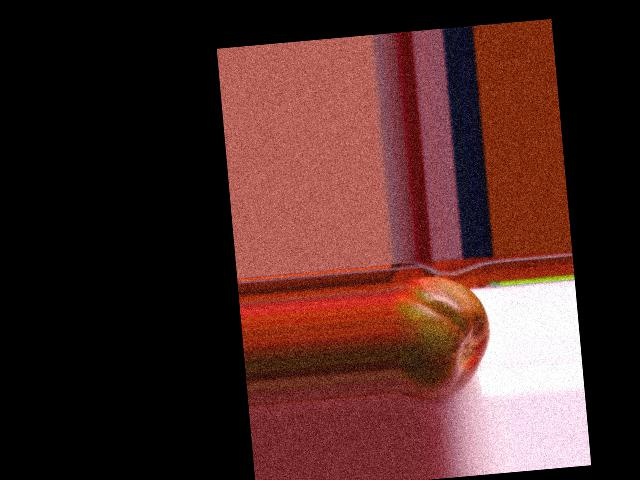tomato: (389, 271, 495, 401)
